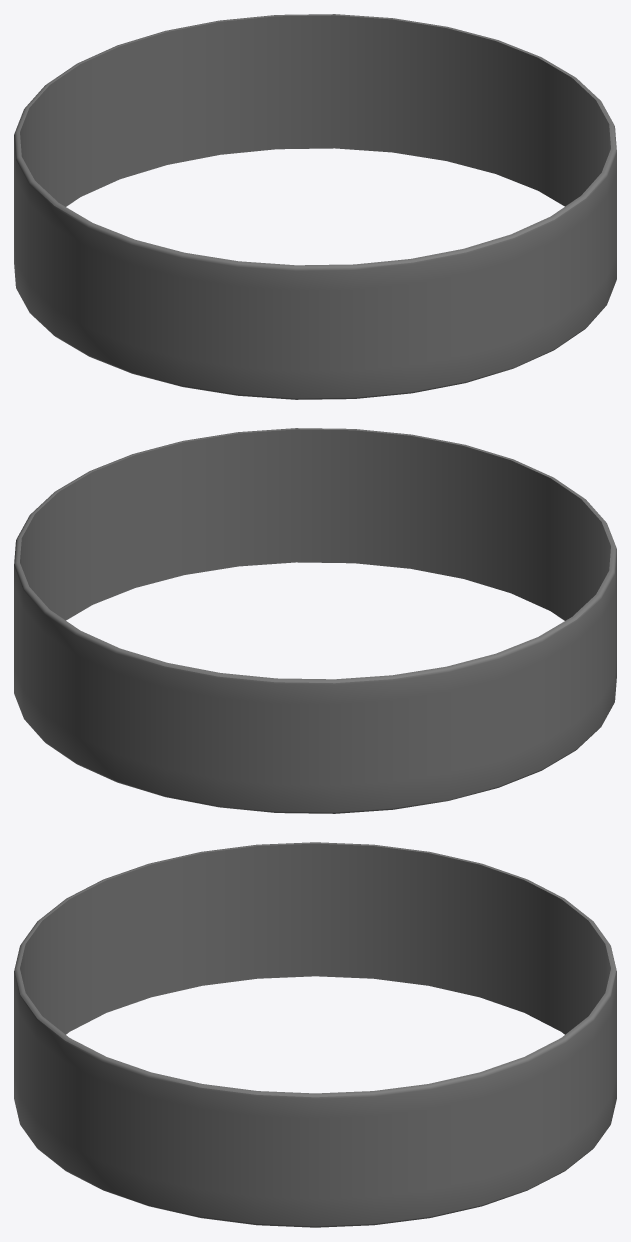
The model's file is cetakan bulet.fbx.
3 views of the same model, one above another, from view 1: azimuth 30°, elevation 25°; view 2: azimuth 150°, elevation 25°; view 3: azimuth 270°, elevation 25° (orthographic).
Parts seen in each view (by area): view 1: Circle; view 2: Circle; view 3: Circle.
Boxes of the visible parts, box(x1,y1,x2,y2) form: Circle: box(14, 14, 616, 399); Circle: box(14, 428, 616, 813); Circle: box(14, 842, 616, 1227).
Bounding box in the file's own units: 204 × 49.55 × 204.
1 material, 1 textured.
